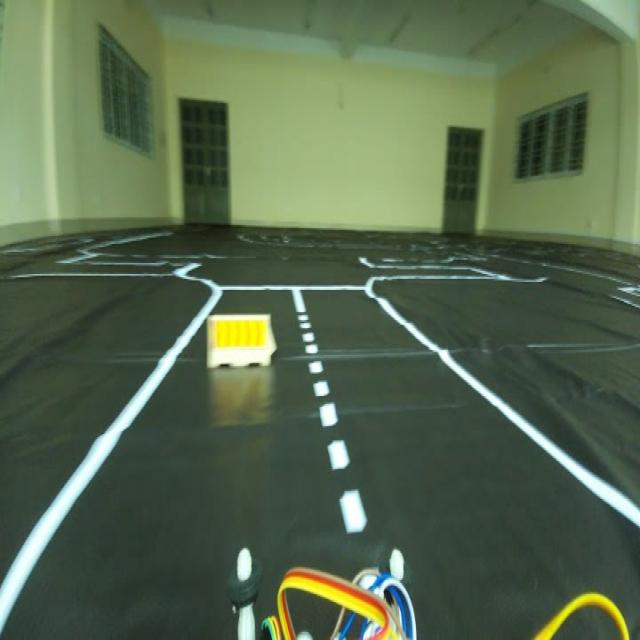roadblock: (205, 305, 279, 371)
